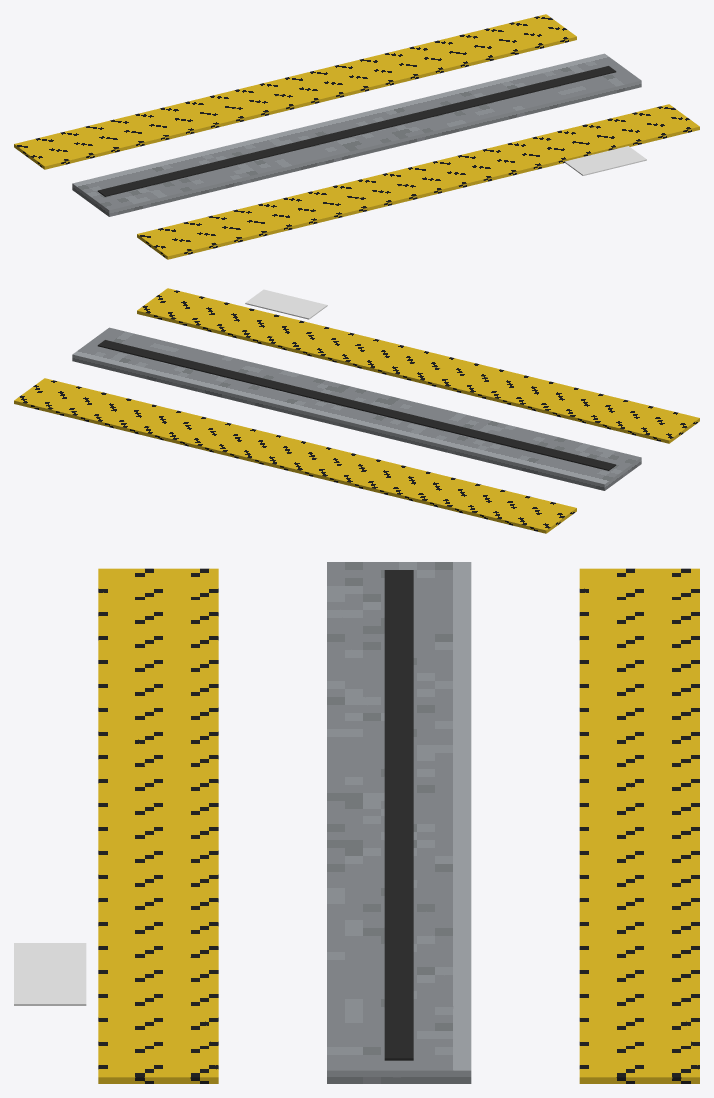
Rendered from tr_concrete_wall_door_lab_res_8_NE.glb.
3 renders of one model, top to bottom at view 1: azimuth 30°, elevation 25°; view 2: azimuth 150°, elevation 25°; view 3: azimuth 270°, elevation 25°, orthographic. The views are drawn at different scales.
Visible parts, largest first — view 1: block_hazard stripe (×2), block_door track, block_groove, block_label; view 2: block_hazard stripe (×2), block_door track, block_groove, block_label; view 3: block_hazard stripe (×2), block_door track, block_groove, block_label.
Boxes of the visible parts, box(x1,y1,x2,y2) form: block_hazard stripe (×2): box(14, 14, 699, 259); block_door track: box(72, 53, 641, 216); block_groove: box(97, 66, 616, 196); block_label: box(564, 146, 646, 175); block_hazard stripe (×2): box(14, 288, 699, 533); block_door track: box(72, 327, 641, 490); block_groove: box(97, 340, 616, 470); block_label: box(245, 289, 327, 319); block_hazard stripe (×2): box(98, 568, 699, 1083); block_door track: box(327, 562, 471, 1083); block_groove: box(384, 570, 413, 1060); block_label: box(14, 943, 86, 1005).
Size of the model in its own units: 1 by 0.014 by 0.57.
2 materials, 2 textured.
